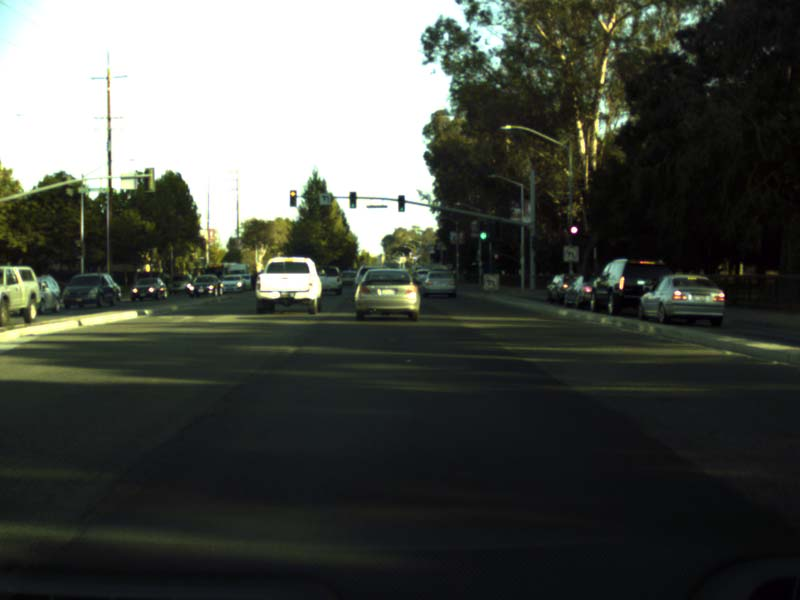Green: (478, 219, 487, 241), (397, 195, 405, 212), (349, 191, 356, 208)
Red: (569, 225, 579, 246), (289, 190, 296, 207)
